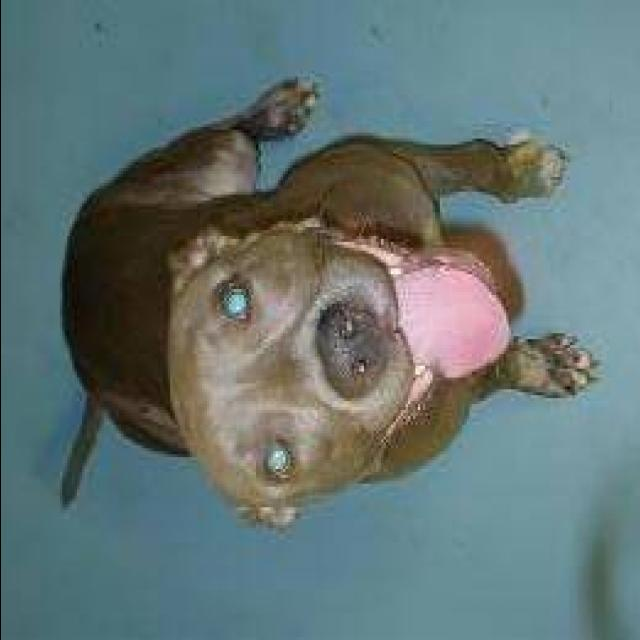dog: (9, 56, 611, 588)
